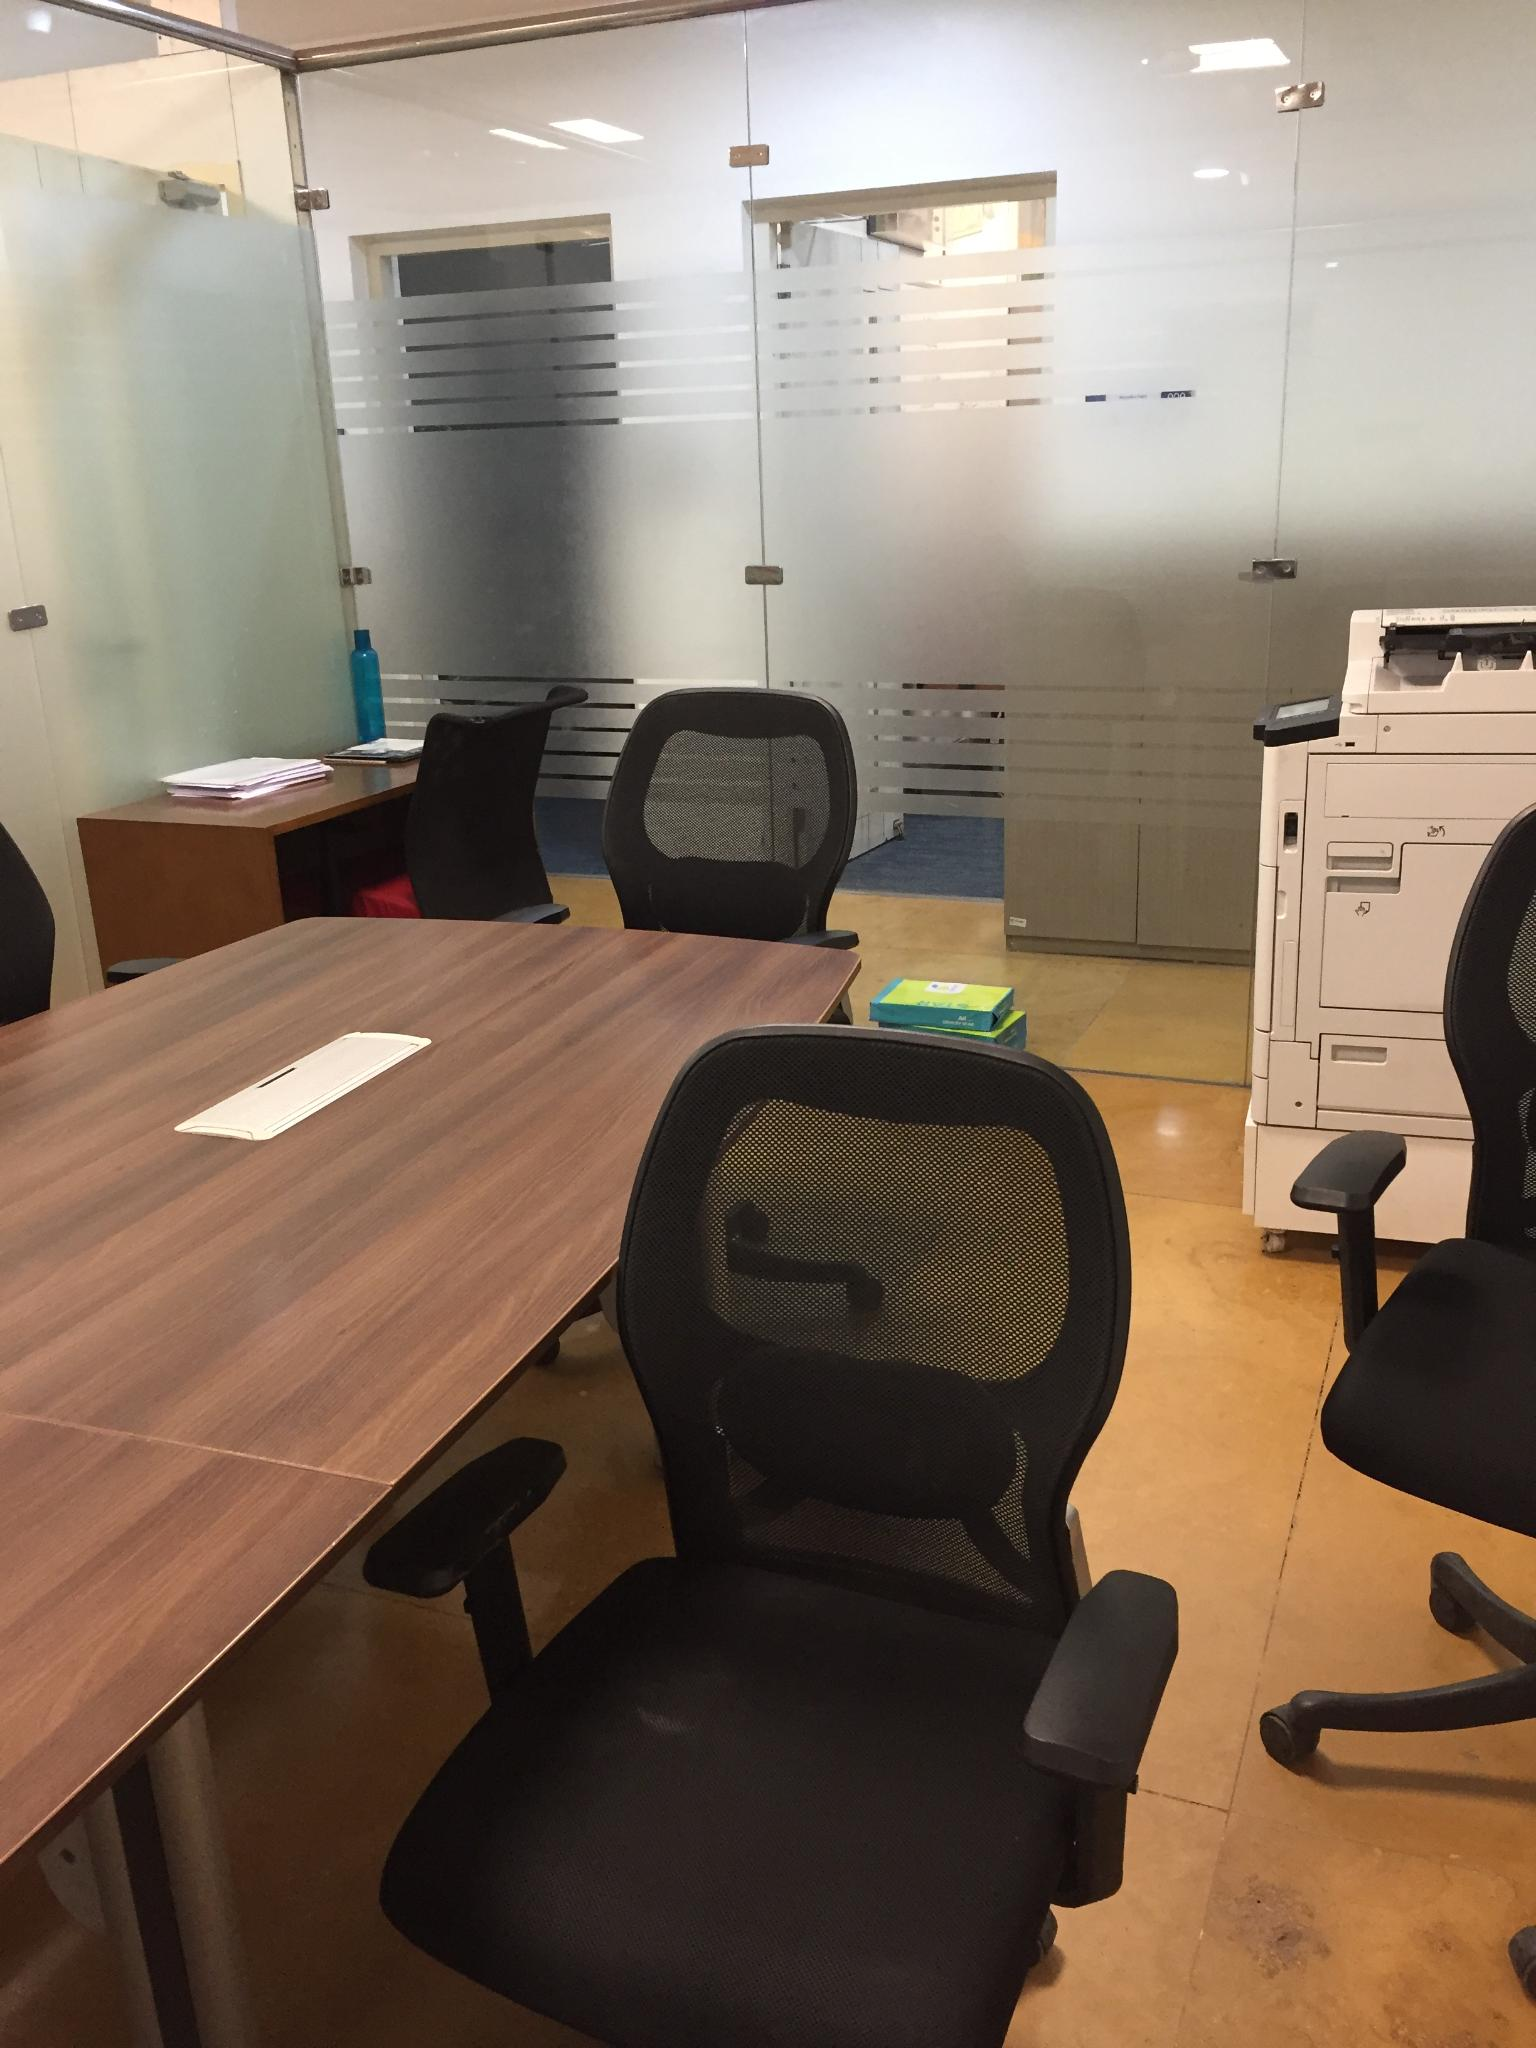chair: (361, 1019, 1178, 2045), (1270, 795, 1536, 2016), (607, 695, 883, 1045), (350, 684, 587, 924), (0, 819, 81, 1022)
